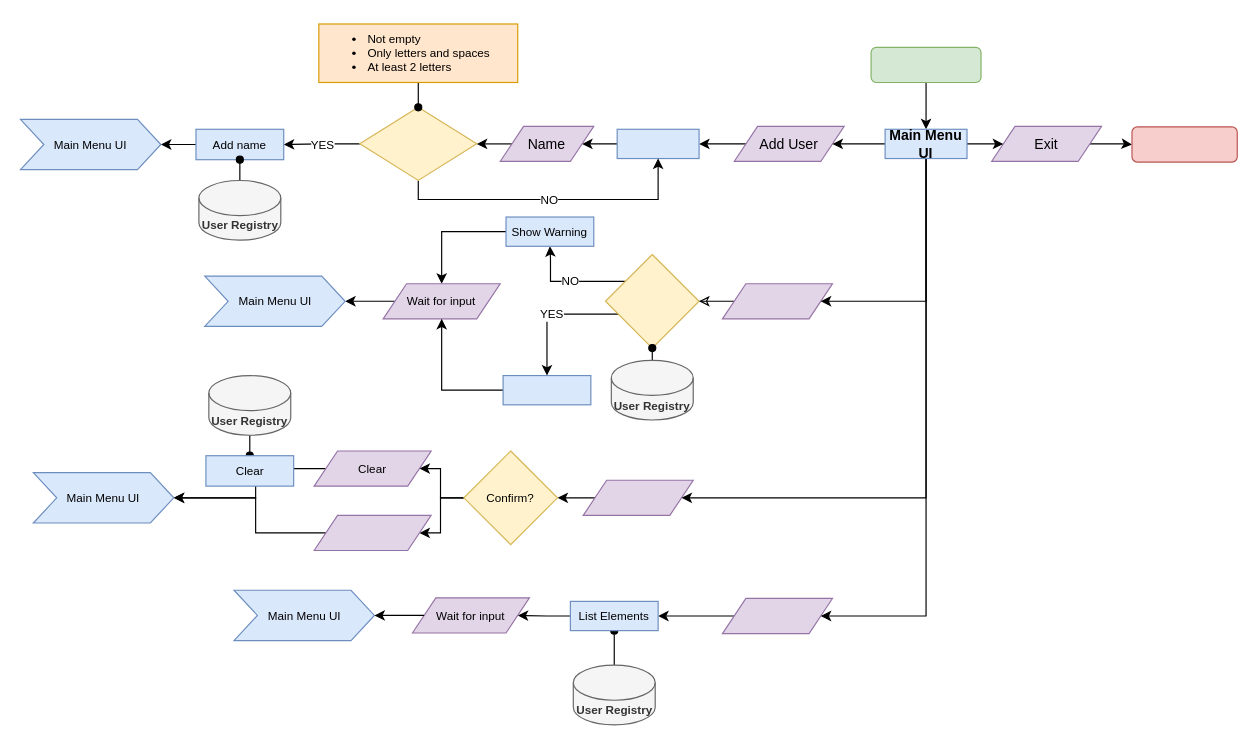
Image size: 1258x745. Some labels were removed from this diagram. The box of each missing label's shape, as (x1, y1, x2, y2) in pixels:
Add User UI: (616, 128, 699, 159)
Cancel: (313, 514, 431, 550)
Clear List: (582, 479, 693, 515)
Has Content?: (604, 253, 699, 348)
List stats: (502, 374, 591, 405)
Meet Criteria?: (359, 106, 477, 180)
Show All: (721, 597, 832, 634)
Start application: (870, 46, 981, 82)
Statistics: (721, 283, 832, 319)
Stop Application: (1131, 126, 1237, 162)
